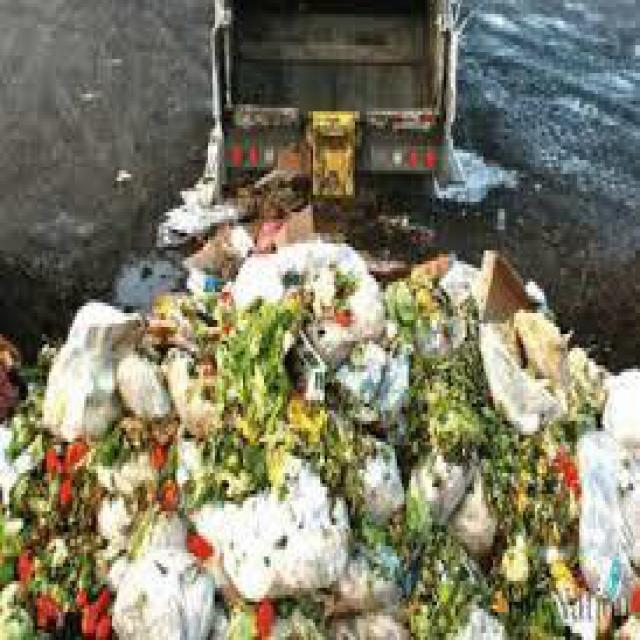garbage: (5, 181, 638, 636)
